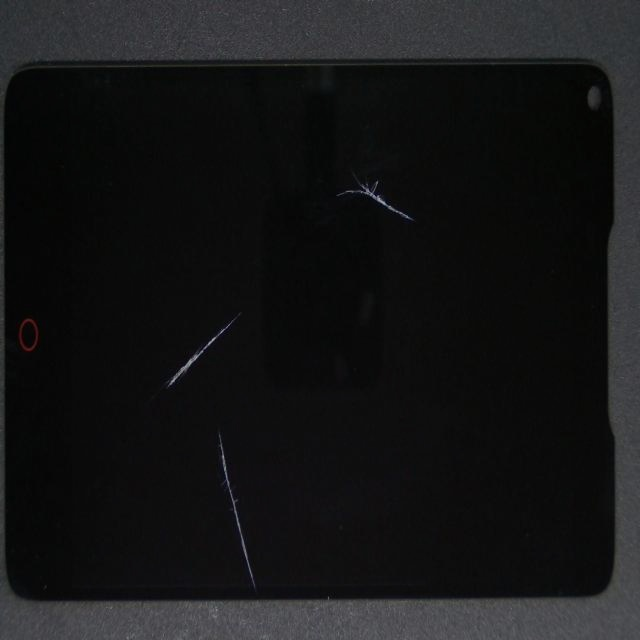scratch: (237, 149, 621, 317), (156, 376, 377, 640), (164, 118, 320, 487)
